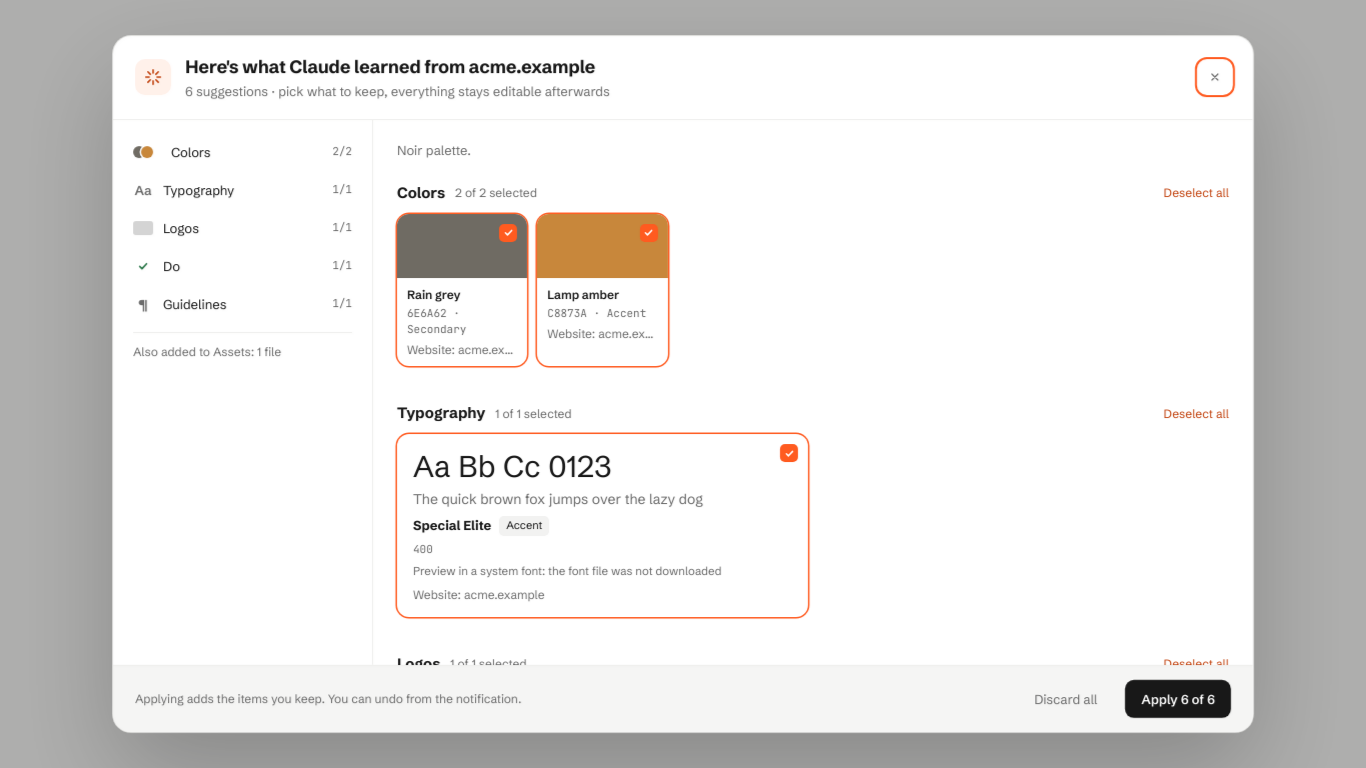
Scenario: BrandReview › selects a single item and a whole group back
Click the checkbox named "Keep Rain grey": (508,233) left=499, top=224, right=517, bottom=242
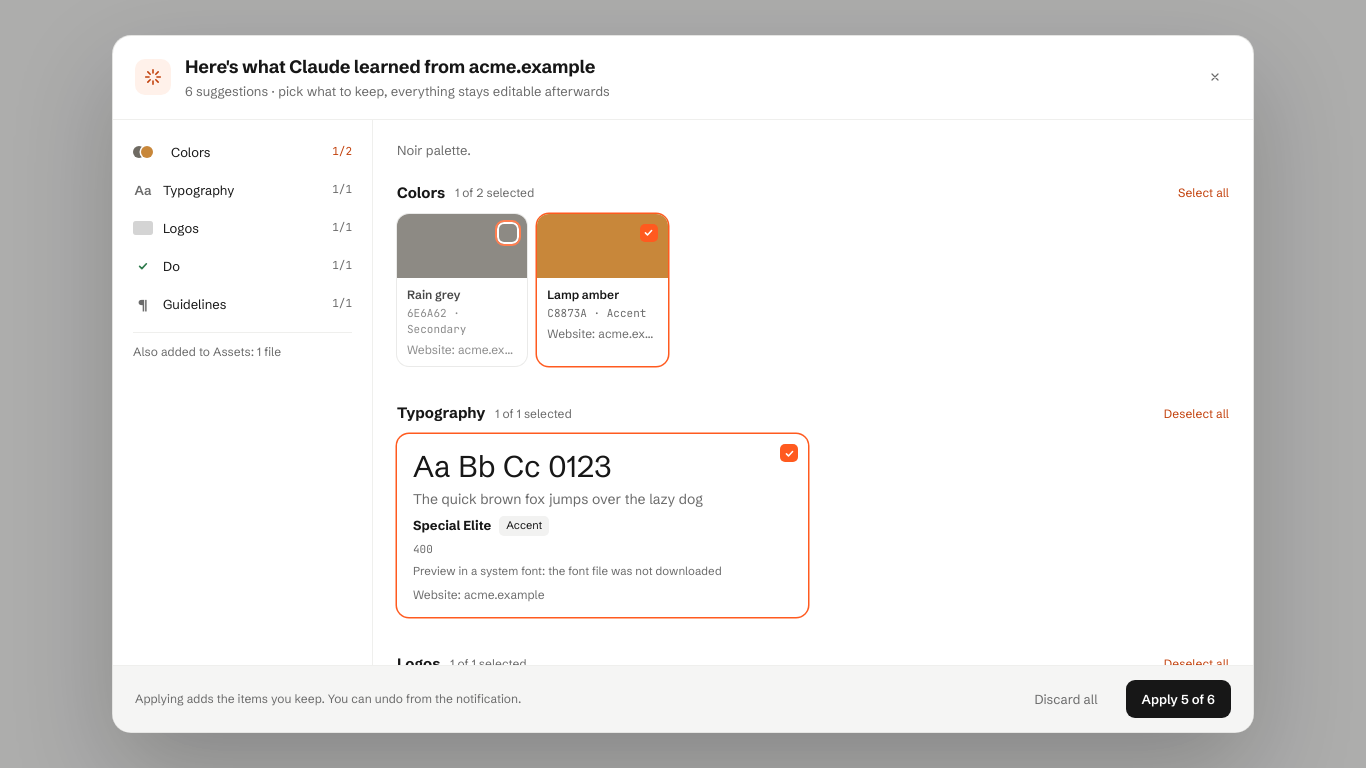
Expected: the button "Apply 5 of 6" is shown, left=1126, top=680, right=1231, bottom=718
Click the button "Select all": (1203,193) left=1178, top=184, right=1229, bottom=202
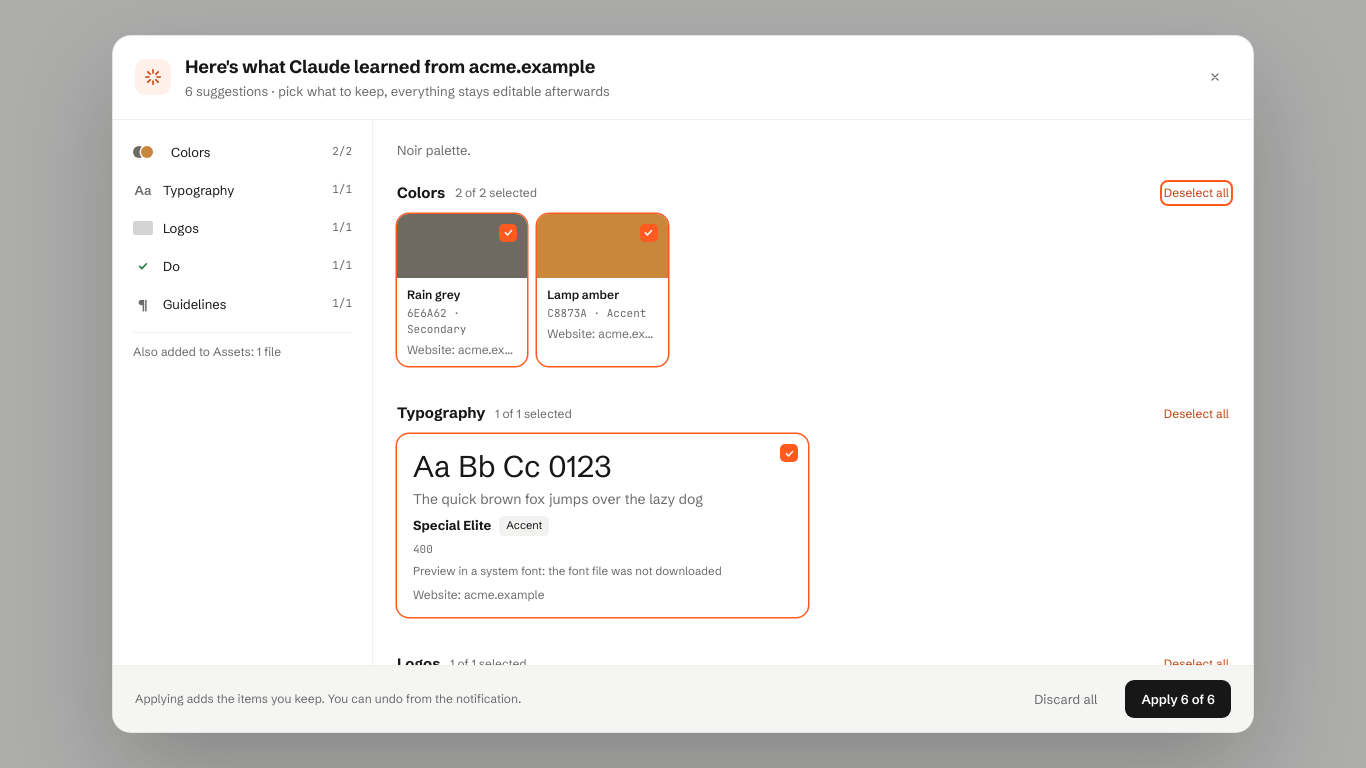
Expected: the button "Apply 6 of 6" is shown, left=1126, top=680, right=1231, bottom=718
